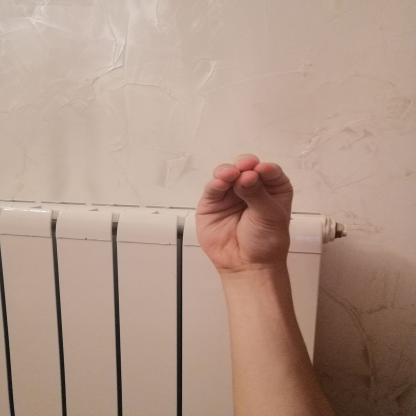HA: (181, 140, 313, 285)
